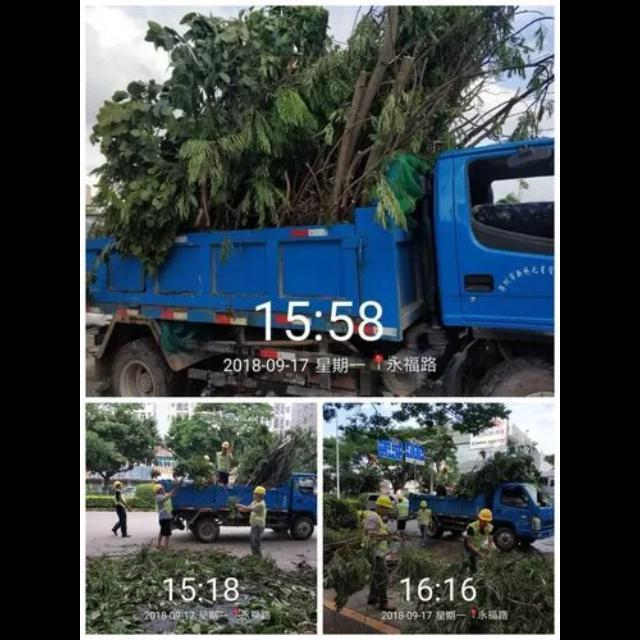fallen_tree: (400, 540, 556, 632)
